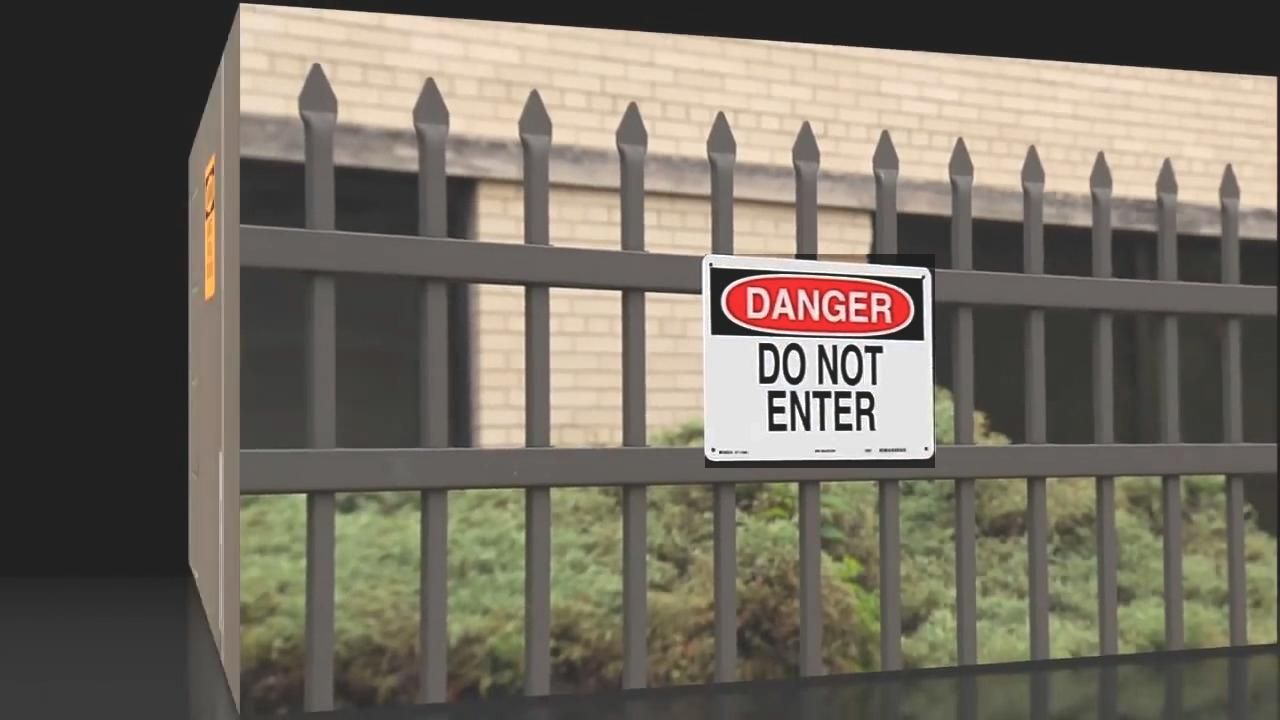safety_signage: (706, 255, 936, 469)
